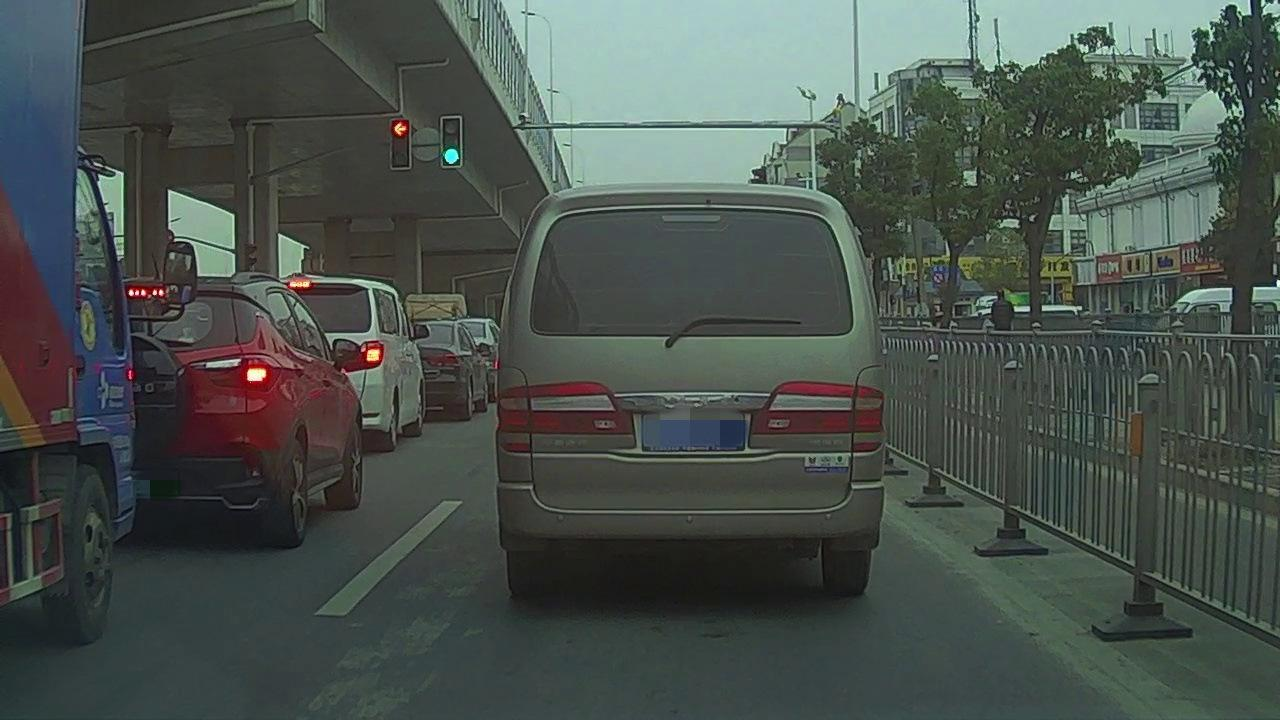traffic_light: (441, 117, 461, 169), (391, 119, 410, 171)
